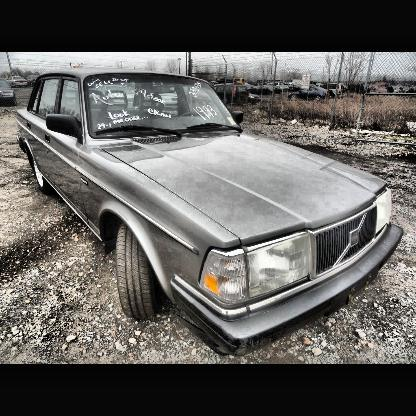Volvo 240 Sedan 1993: (16, 69, 407, 357)
